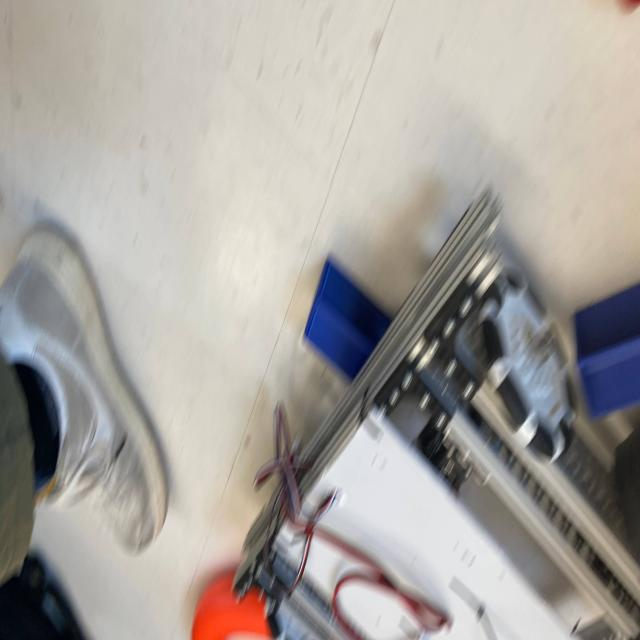blue-specimen: (304, 256, 390, 382), (574, 284, 640, 421)
